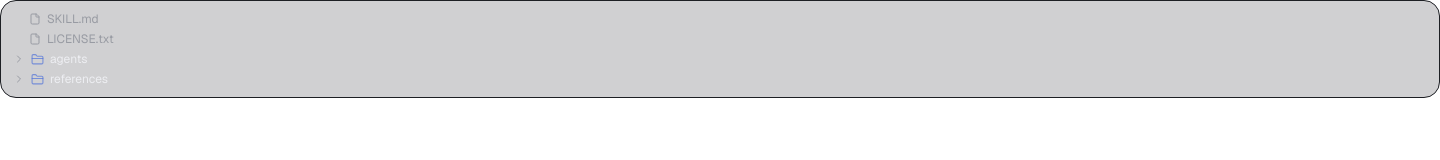
Test: SkillFileSection file previews › keeps at most one sibling directory open (accordion)
Click the button "agents" at (69,59), box top-left (9, 49), bottom-right (1431, 69)
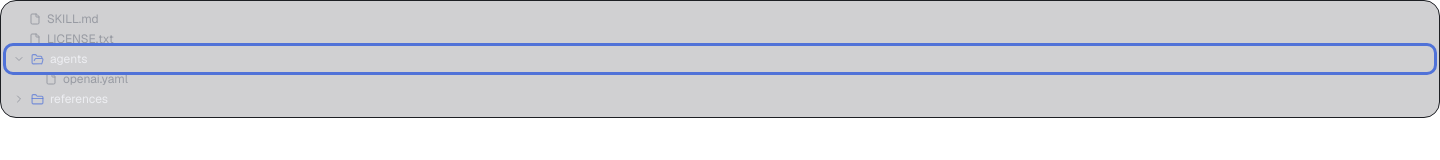
Result: the text "openai.yaml" is shown at top-left (63, 71), bottom-right (128, 87)
Click the button "references" at (79,99), box top-left (9, 89), bottom-right (1431, 109)
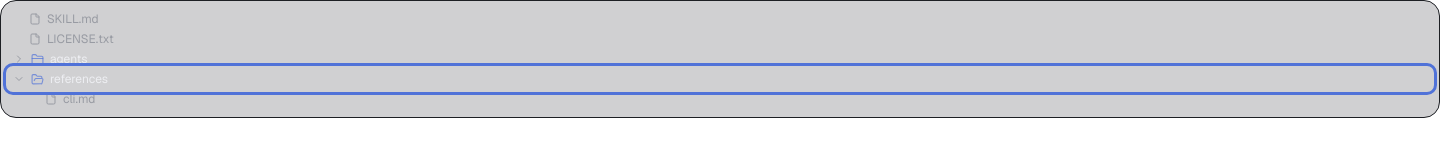
Result: the text "cli.md" is shown at top-left (63, 91), bottom-right (96, 107)
Result: the button "openai.yaml" is gone
